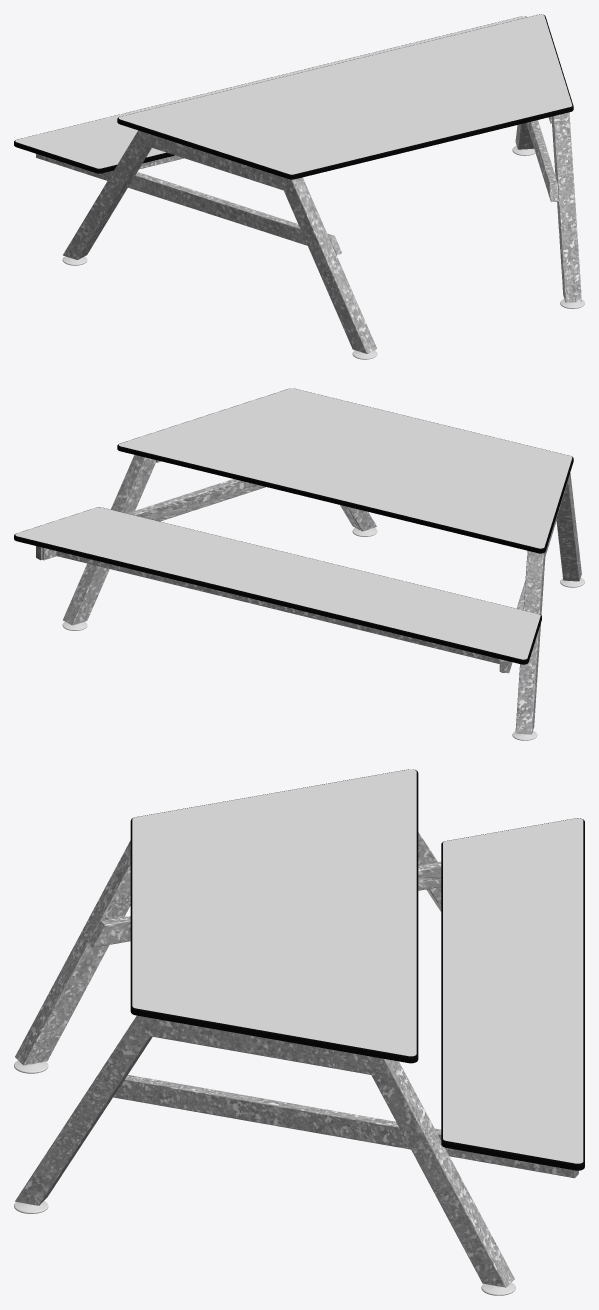
File: rustik-forum-bambini.glb
3 renders of one model, top to bottom at view 1: azimuth 30°, elevation 25°; view 2: azimuth 150°, elevation 25°; view 3: azimuth 270°, elevation 25°, orthographic. The views are drawn at different scales.
Visible parts, largest first — view 1: Tischplatte, Gestell, Sitzplatte, HPL-Kante, Stellgleiter; view 2: Tischplatte, Sitzplatte, Gestell, HPL-Kante, Stellgleiter; view 3: Tischplatte, Sitzplatte, Gestell, HPL-Kante, Stellgleiter.
Part boxes in pixels (x1=…): Tischplatte: x1=118, y1=14, x2=572, y2=174; Gestell: x1=36, y1=112, x2=581, y2=353; Sitzplatte: x1=15, y1=16, x2=526, y2=168; HPL-Kante: x1=14, y1=14, x2=573, y2=179; Stellgleiter: x1=62, y1=146, x2=584, y2=359; Tischplatte: x1=118, y1=388, x2=572, y2=548; Sitzplatte: x1=15, y1=507, x2=540, y2=659; Gestell: x1=36, y1=455, x2=581, y2=734; HPL-Kante: x1=14, y1=388, x2=573, y2=664; Stellgleiter: x1=62, y1=527, x2=584, y2=740; Tischplatte: x1=132, y1=769, x2=416, y2=1056; Sitzplatte: x1=443, y1=818, x2=583, y2=1163; Gestell: x1=15, y1=832, x2=578, y2=1287; HPL-Kante: x1=130, y1=769, x2=584, y2=1170; Stellgleiter: x1=14, y1=1060, x2=515, y2=1295.
Size of the model in its own units: 1.43 by 0.43 by 0.9931.
3 materials, 1 textured.
